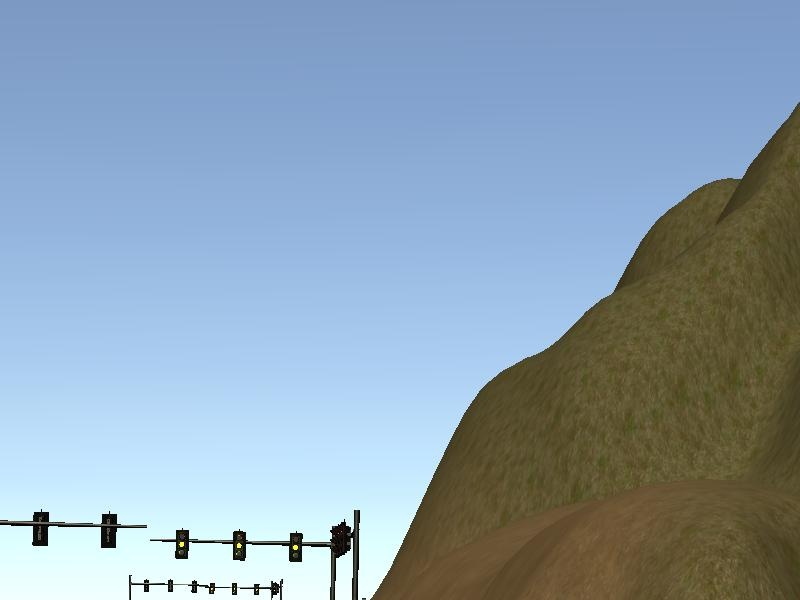yellow: (228, 526, 251, 564), (171, 526, 193, 564), (287, 531, 304, 567)
